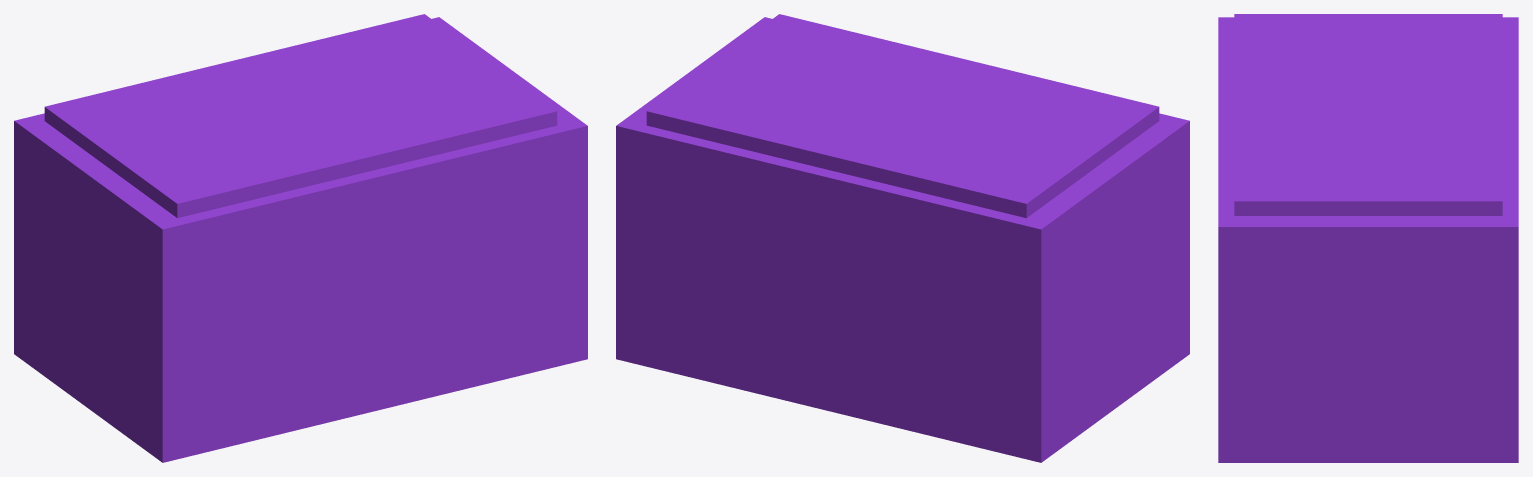
The model's file is garden_gnomeplatform.fbx.
3 views of the same model, side by side, from view 1: azimuth 30°, elevation 25°; view 2: azimuth 150°, elevation 25°; view 3: azimuth 270°, elevation 25° (orthographic).
Parts seen in each view (by area): view 1: Platform; view 2: Platform; view 3: Platform.
Part boxes in pixels (x1,y1,x2,y2): Platform: [14, 14, 587, 462]; Platform: [616, 14, 1189, 462]; Platform: [1218, 14, 1518, 462].
Size of the model in its own units: 330 by 184 by 200.
